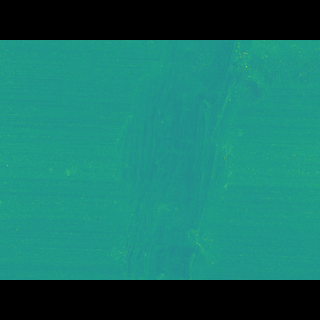Loch: (109, 70, 262, 250)
